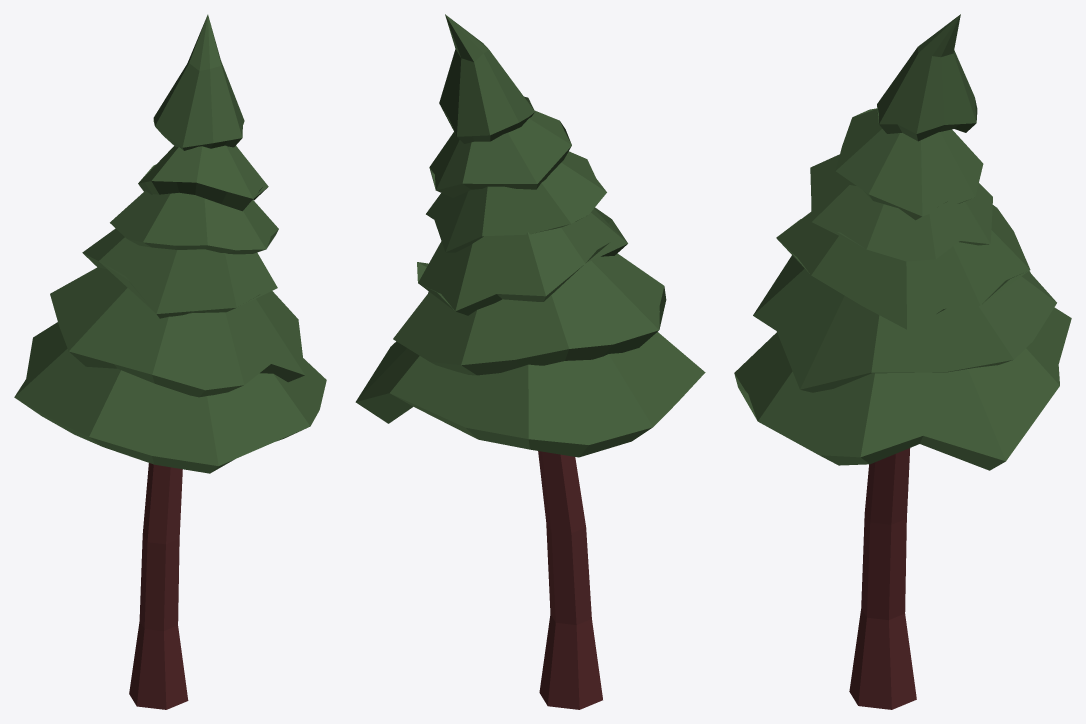
Rendered from pine2.fbx.
3 renders of one model, left to right at view 1: azimuth 30°, elevation 25°; view 2: azimuth 150°, elevation 25°; view 3: azimuth 270°, elevation 25°, orthographic. The views are drawn at different scales.
Parts seen in each view (by area): view 1: Spruce2; view 2: Spruce2; view 3: Spruce2.
Boxes of the visible parts, x1=… form: Spruce2: x1=14, y1=14, x2=326, y2=709; Spruce2: x1=355, y1=14, x2=705, y2=709; Spruce2: x1=734, y1=14, x2=1071, y2=709.
Bounding box in the file's own units: 357 × 812 × 341.
